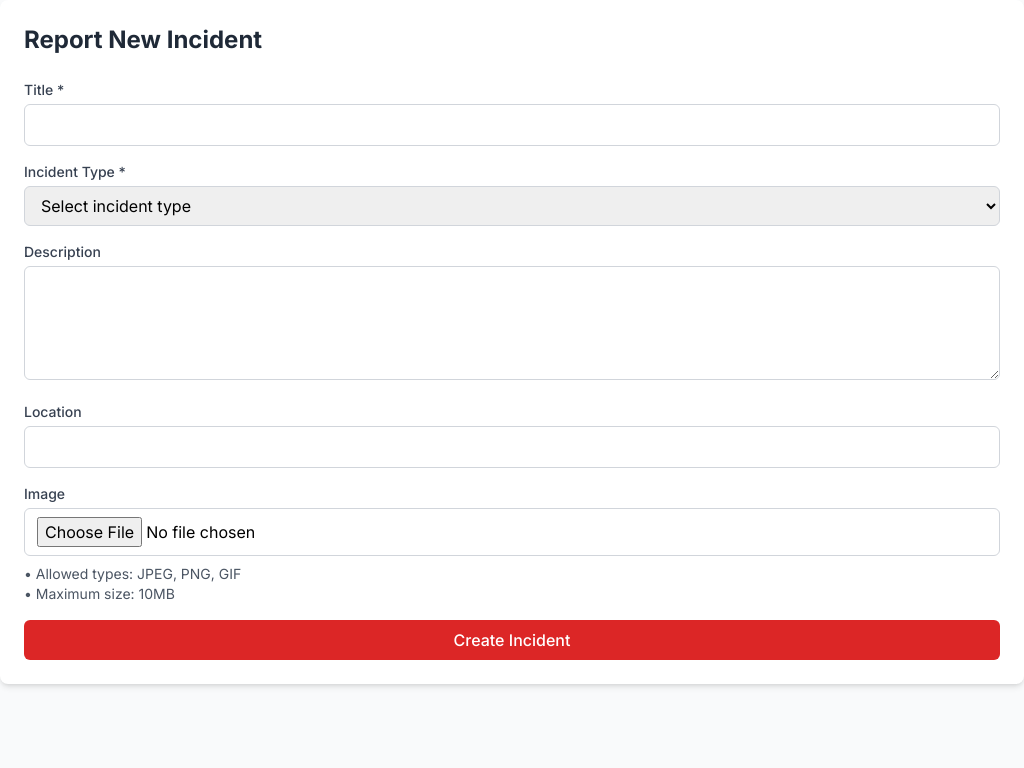
Test case: IncidentForm › handles submission error
The image size is (1024, 768).
# Fill form
Type "Test Incident" into the field labelled "Title *" at (512, 125), box [24,104,1000,146]
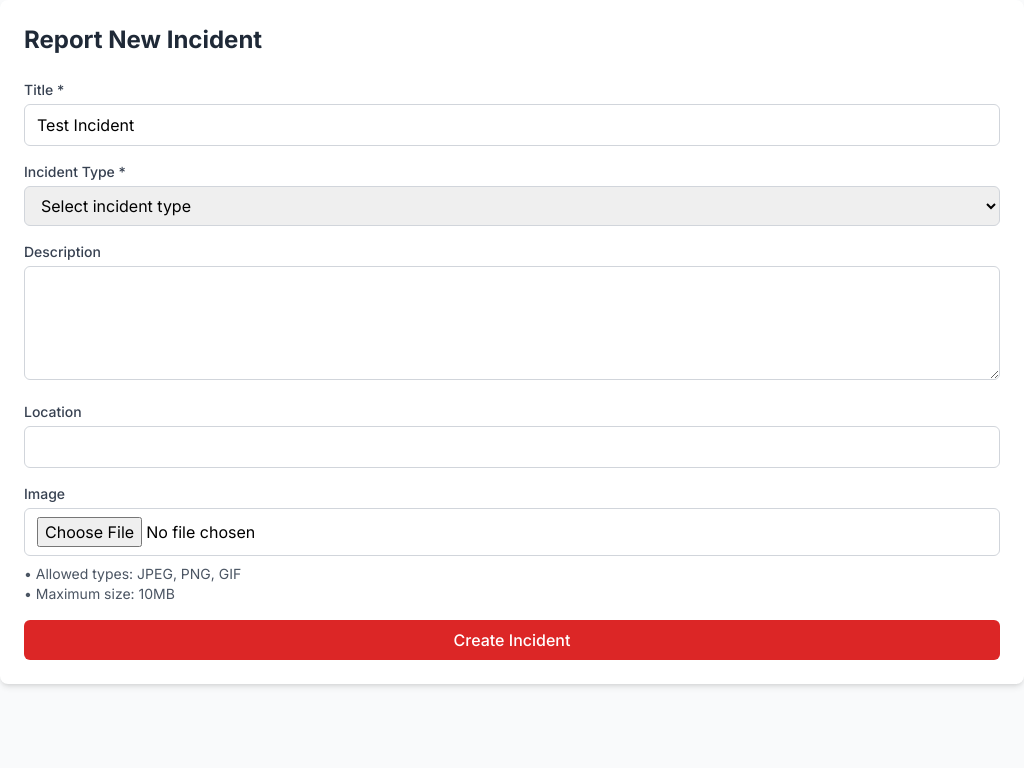
Select "Structure Fire" in the dropdown labelled "Incident Type *" at (512, 206), box [24,186,1000,226]
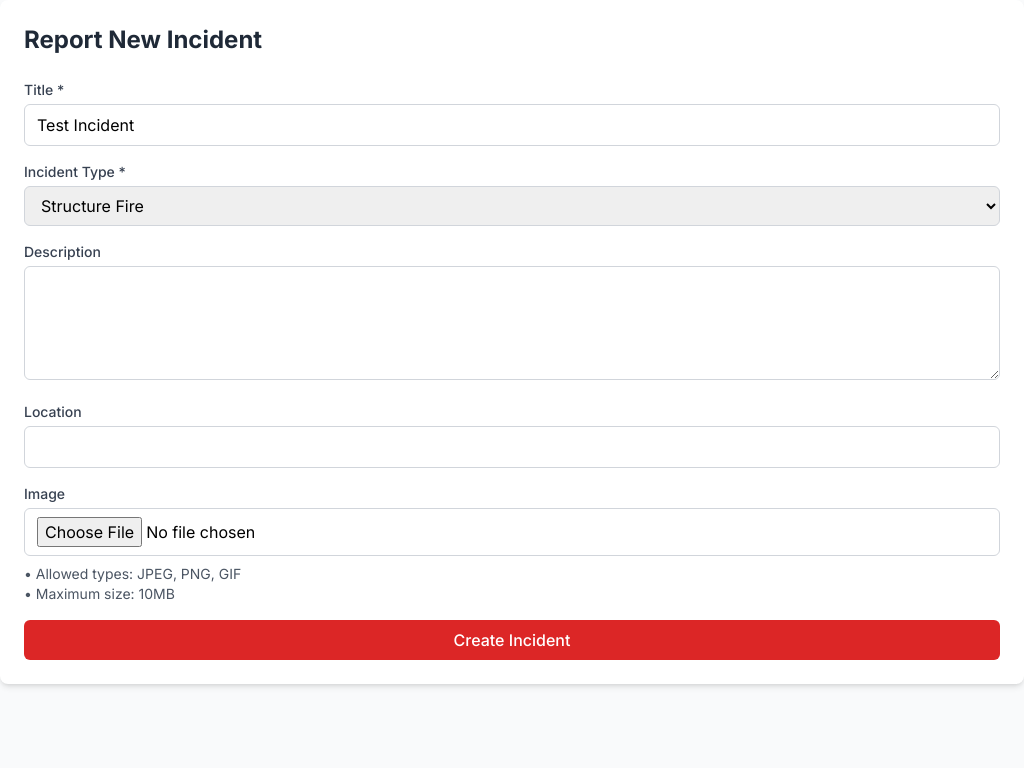
Click the button "Create Incident" at (512, 640), box [24,620,1000,660]
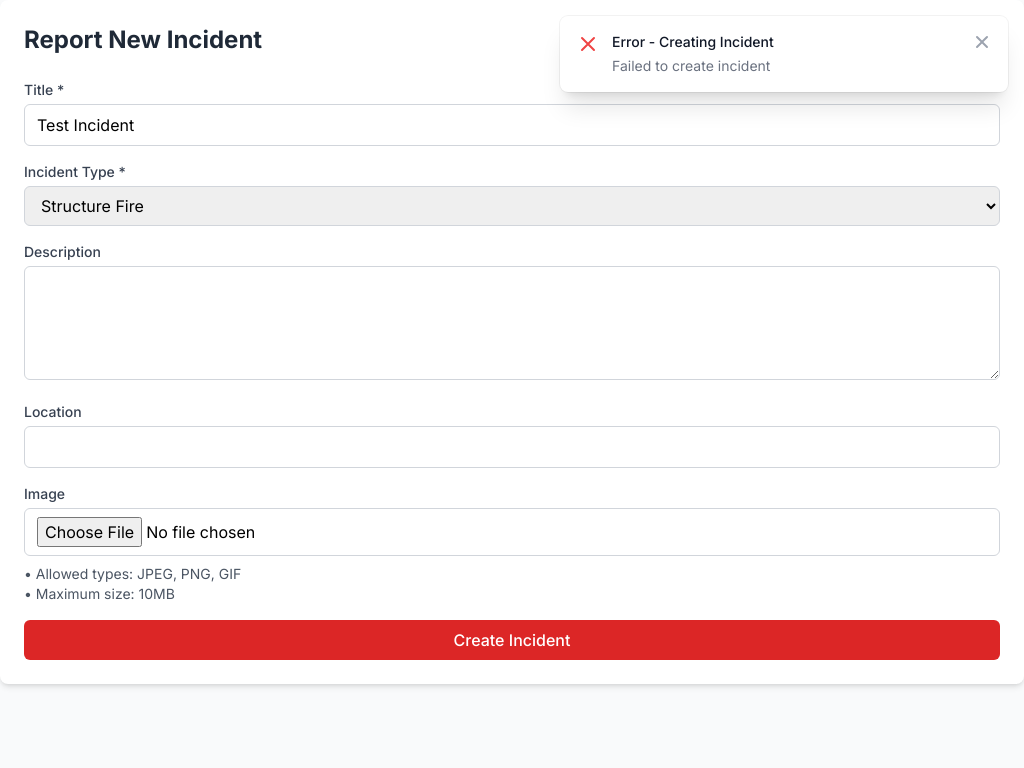
Check: the text "Failed to create incident" is shown, box [612,57,770,74]
